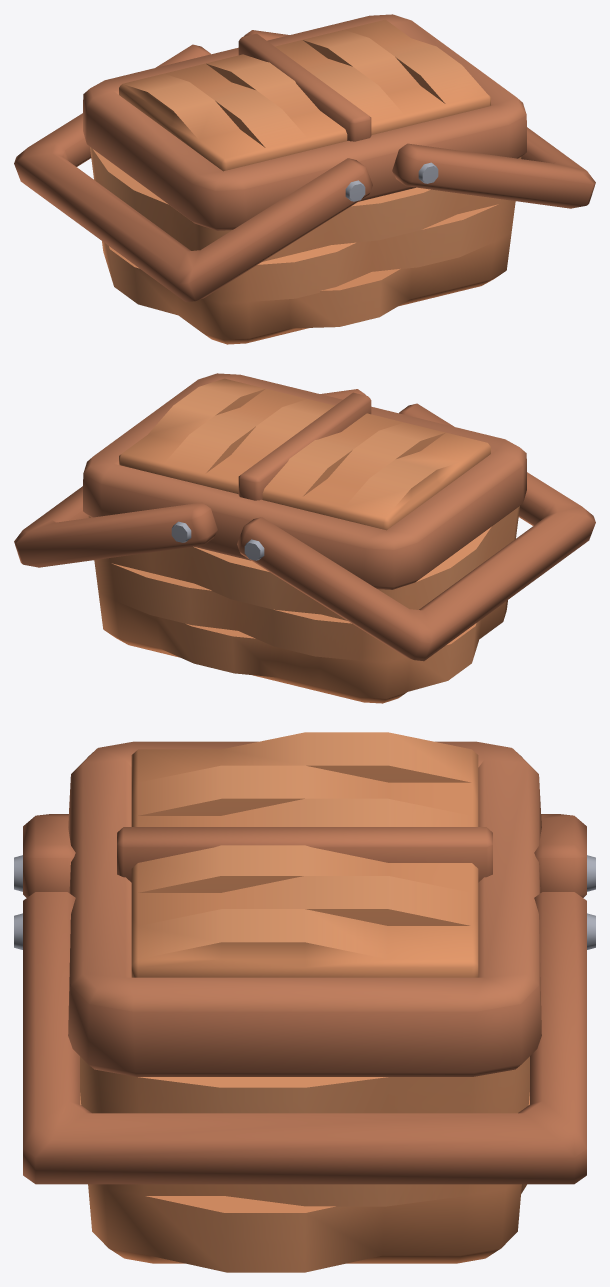
Rendered from carrier.glb.
The picture shows the model from 3 angles, top to bottom: view 1: azimuth 30°, elevation 25°; view 2: azimuth 150°, elevation 25°; view 3: azimuth 270°, elevation 25°; orthographic projection. The views are drawn at different scales.
Visible parts, largest first — view 1: picnic_basket_square, picnic_basket_handle_left, picnic_basket_lid_left, picnic_basket_lid_right, picnic_basket_handle_right; view 2: picnic_basket_square, picnic_basket_handle_left, picnic_basket_lid_left, picnic_basket_lid_right, picnic_basket_handle_right; view 3: picnic_basket_square, picnic_basket_handle_right, picnic_basket_lid_right, picnic_basket_lid_left, picnic_basket_handle_left.
Boxes of the visible parts, bbox=[...] form: picnic_basket_square: bbox=[83, 14, 526, 344]; picnic_basket_handle_left: bbox=[14, 44, 372, 302]; picnic_basket_lid_left: bbox=[119, 54, 347, 171]; picnic_basket_lid_right: bbox=[275, 19, 490, 134]; picnic_basket_handle_right: bbox=[243, 30, 595, 208]; picnic_basket_square: bbox=[83, 373, 526, 703]; picnic_basket_handle_left: bbox=[237, 403, 595, 661]; picnic_basket_lid_left: bbox=[262, 413, 490, 530]; picnic_basket_lid_right: bbox=[119, 378, 334, 493]; picnic_basket_handle_right: bbox=[14, 389, 366, 567]; picnic_basket_square: bbox=[68, 741, 541, 1272]; picnic_basket_handle_right: bbox=[14, 892, 595, 1184]; picnic_basket_lid_right: bbox=[131, 845, 478, 977]; picnic_basket_lid_left: bbox=[131, 732, 478, 826]; picnic_basket_handle_left: bbox=[14, 814, 595, 897].
Size of the model in its own units: 1.52 by 0.6806 by 1.12.
Materials: 1 (1 with a texture image).
